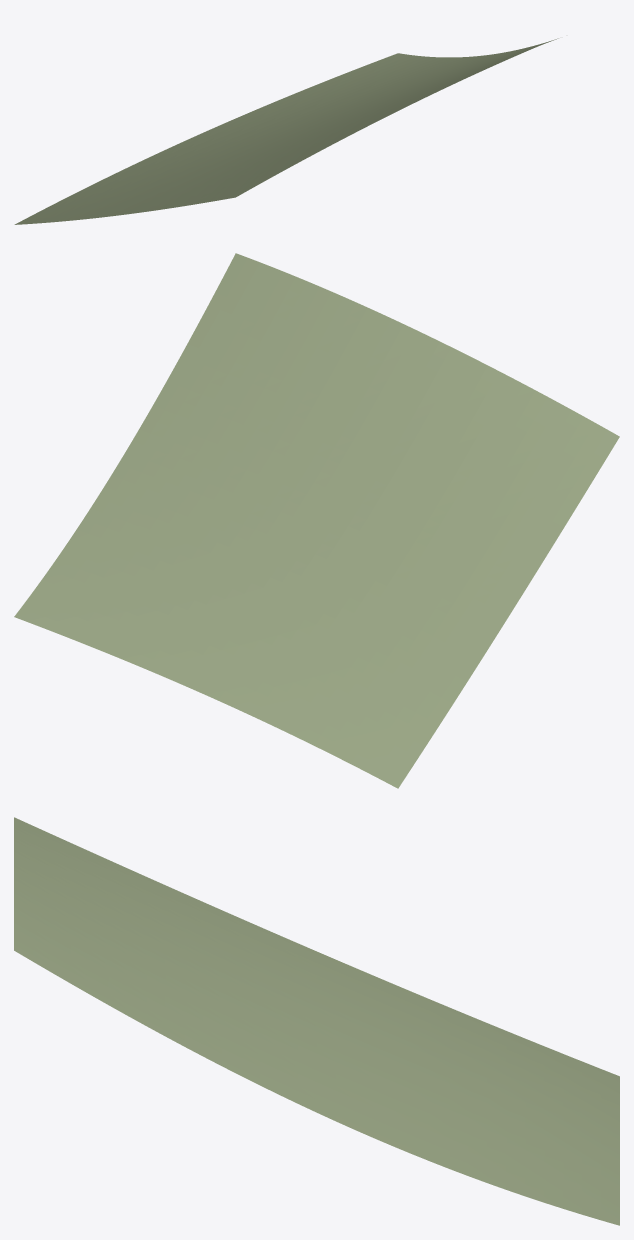
File: alpine-7-4.glb
3 views of the same model, one above another, from view 1: azimuth 30°, elevation 25°; view 2: azimuth 150°, elevation 25°; view 3: azimuth 270°, elevation 25° (orthographic). The views are drawn at different scales.
Visible parts, largest first — view 1: alpine-7-4; view 2: alpine-7-4; view 3: alpine-7-4.
Part boxes in pixels (box(x1,y1,x2,y2)): alpine-7-4: box(14, 38, 558, 224); alpine-7-4: box(14, 253, 619, 788); alpine-7-4: box(14, 817, 619, 1225).
Size of the model in its own units: 256 by 178 by 256.
